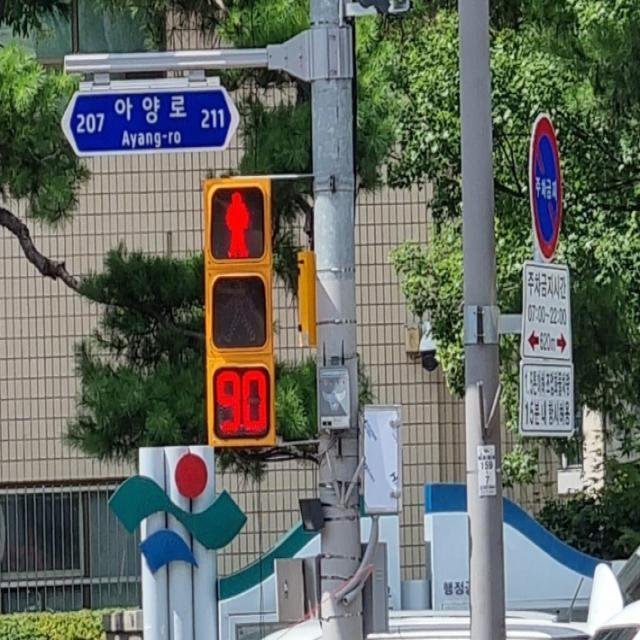red_light: (212, 192, 270, 440)
